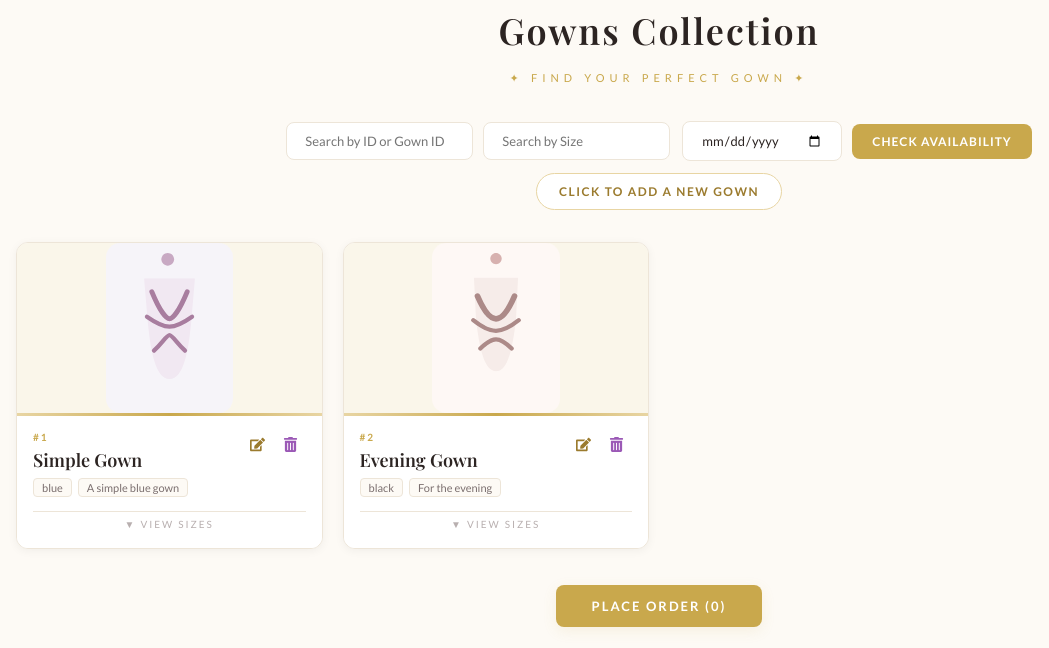
searching › typing a size keeps only the models that have it
This screenshot has width=1049, height=648.
expect the text "Simple Gown" is shown: met, box [33,448,142,472]
In the number field with placeholder "Search by Size": [577, 141] box [483,122,670,160], type "40"
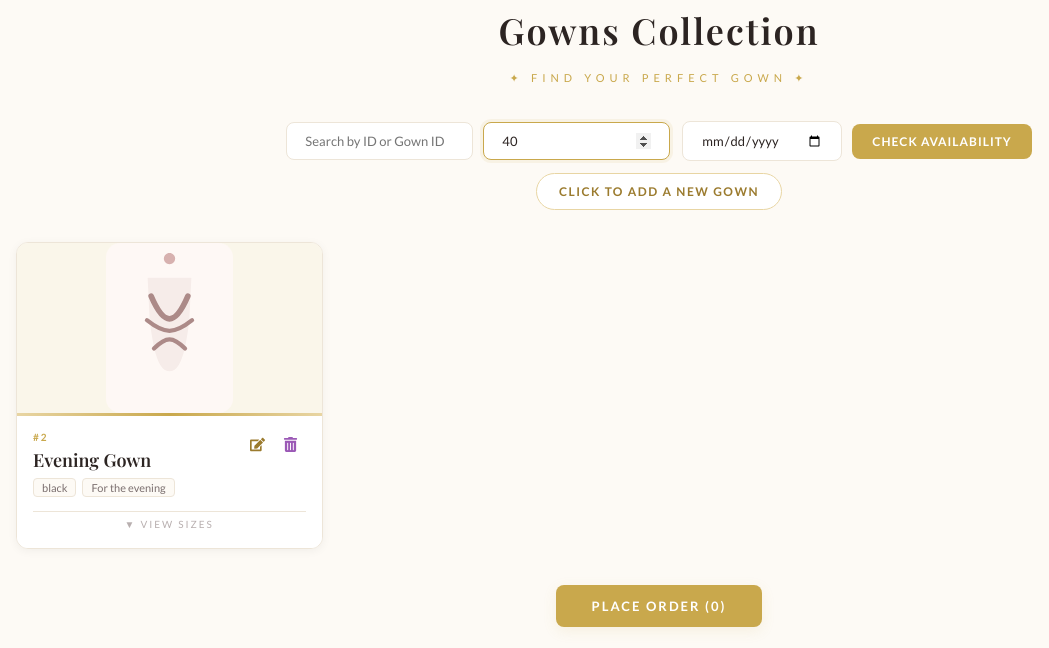
expect the text "Evening Gown" is shown: met, box [33,448,151,472]
expect the text "Simple Gown" is gone: met
